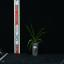leaf: (24, 25, 34, 41), (35, 28, 46, 40), (30, 23, 36, 43), (35, 32, 47, 42), (27, 39, 34, 50), (30, 41, 34, 52), (36, 39, 43, 45), (37, 41, 42, 43)
